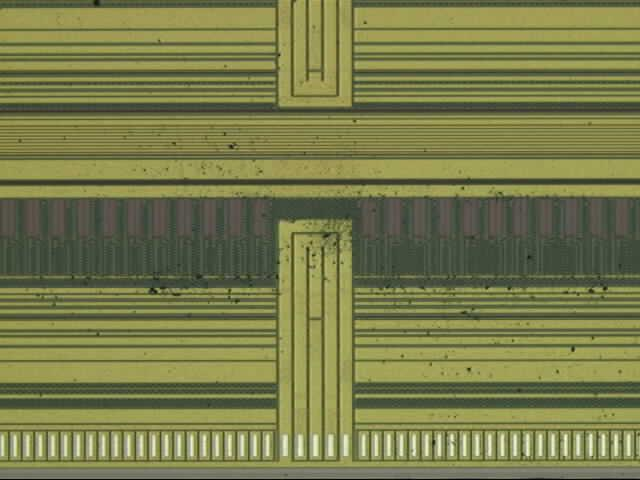PO CONTAMINATION: (13, 1, 632, 463)
